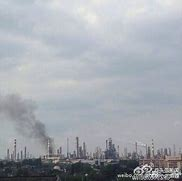smoke: (1, 94, 55, 142)
